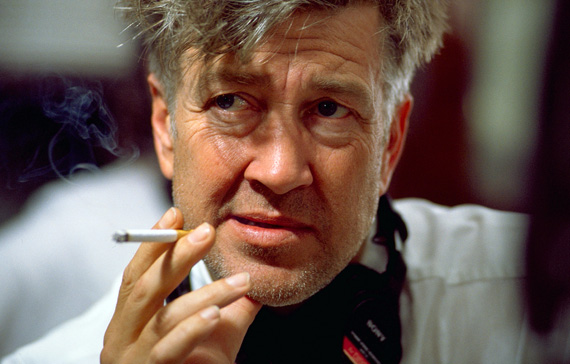cigarette: (105, 218, 210, 252)
